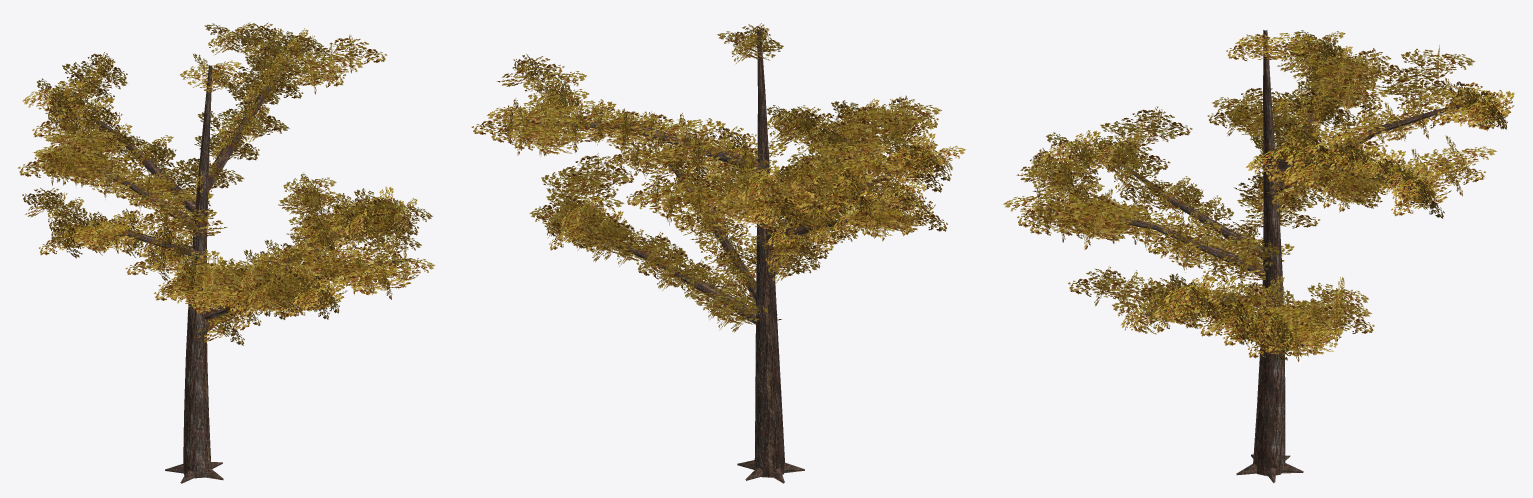
The model's file is tree_3d_04_yellow_lod1.glb.
The picture shows the model from 3 angles, left to right: view 1: azimuth 30°, elevation 25°; view 2: azimuth 150°, elevation 25°; view 3: azimuth 270°, elevation 25°; orthographic projection. The views are drawn at different scales.
Parts seen in each view (by area): view 1: foliage_cards, wood_geometry; view 2: foliage_cards, wood_geometry; view 3: foliage_cards, wood_geometry.
Part boxes in pixels (x1,y1,x2,y2): foliage_cards: (18, 22, 434, 345); wood_geometry: (67, 46, 409, 483); foliage_cards: (471, 23, 965, 332); wood_geometry: (511, 30, 904, 483); foliage_cards: (1003, 30, 1514, 361); wood_geometry: (1047, 30, 1473, 482).
Size of the model in its own units: 8.12 by 8.31 by 8.72.
Materials: 2 (2 with a texture image).
